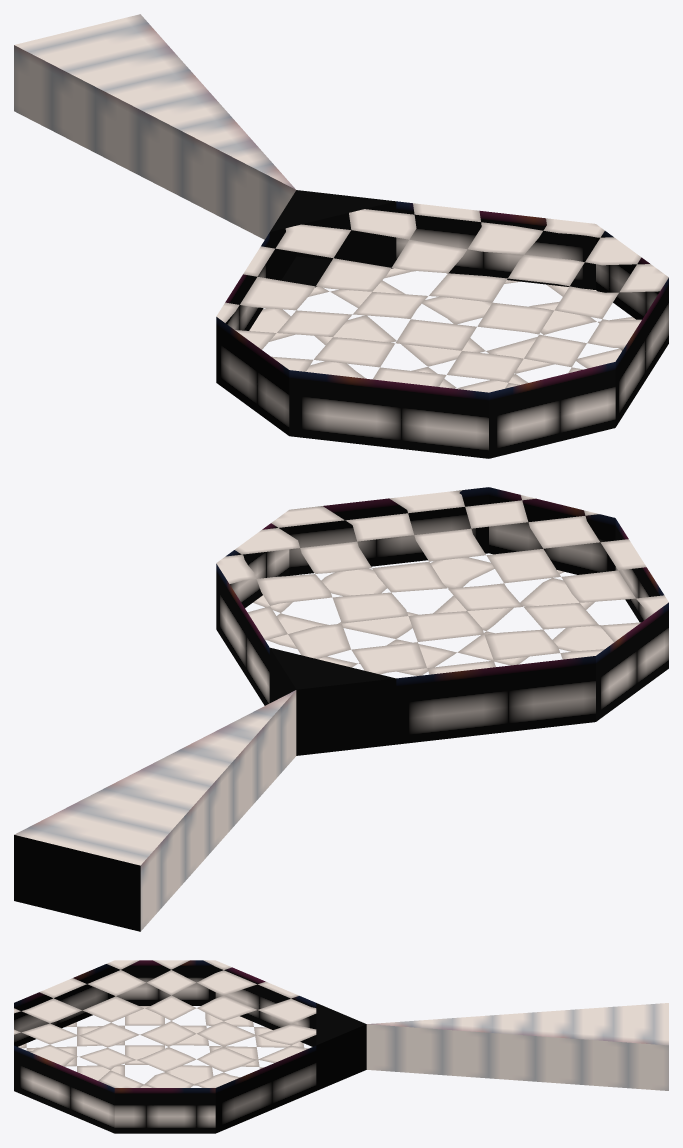
The model's file is tennisracket.obj.
3 renders of one model, top to bottom at view 1: azimuth 30°, elevation 25°; view 2: azimuth 150°, elevation 25°; view 3: azimuth 270°, elevation 25°, orthographic. The views are drawn at different scales.
Parts seen in each view (by area): view 1: tennisracket; view 2: tennisracket; view 3: tennisracket.
Part boxes in pixels (x1,y1,x2,y2): tennisracket: (14, 14, 668, 458); tennisracket: (14, 487, 668, 931); tennisracket: (14, 960, 668, 1133).
Size of the model in its own units: 1.5 by 0.25 by 3.25.
1 material, 1 textured.
